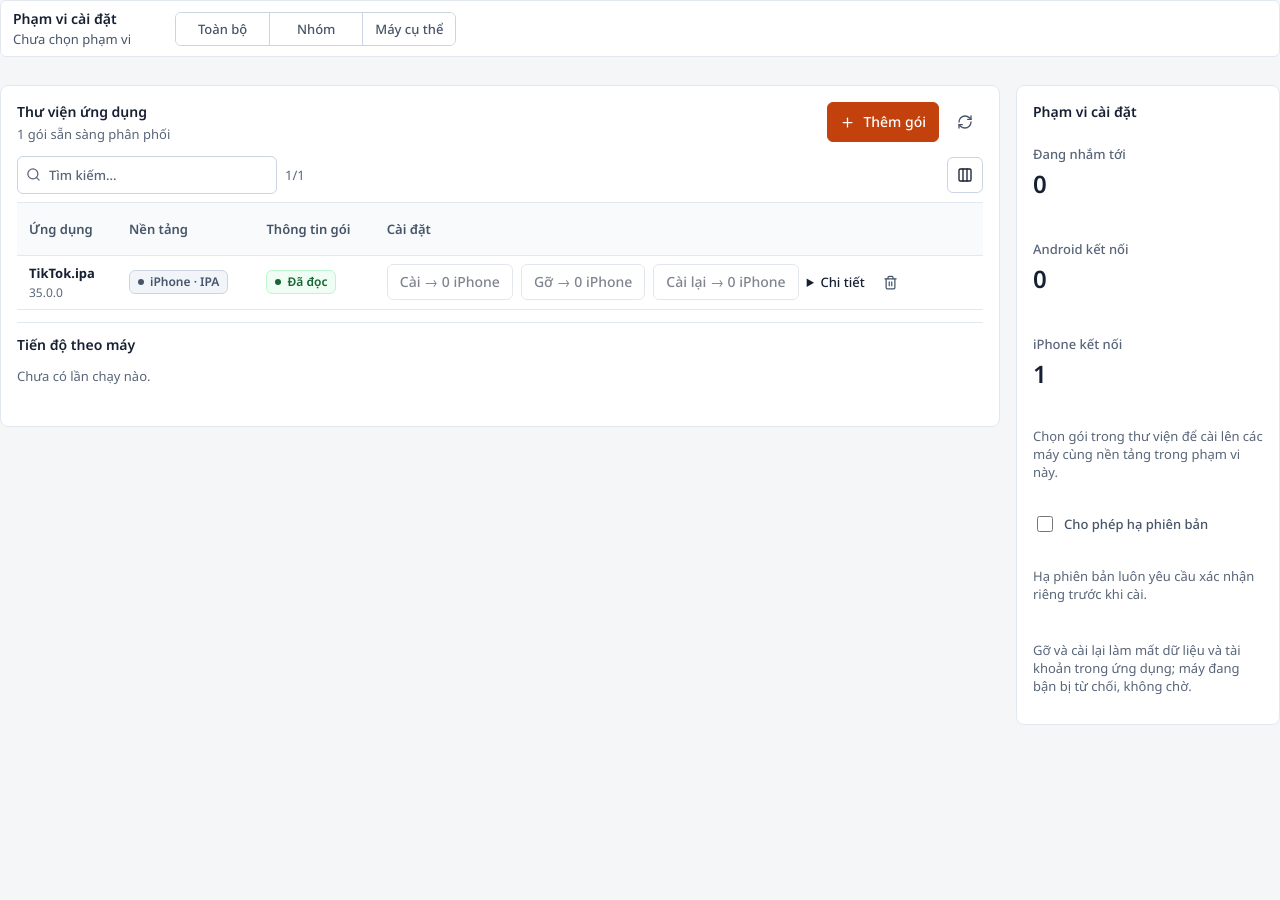
Test case: AppsPage install targets › keeps empty groups and a cleared explicit scope at zero devices
Click the radio button labelled "Nhóm" at (316, 28), box top-left (269, 12), bottom-right (362, 44)
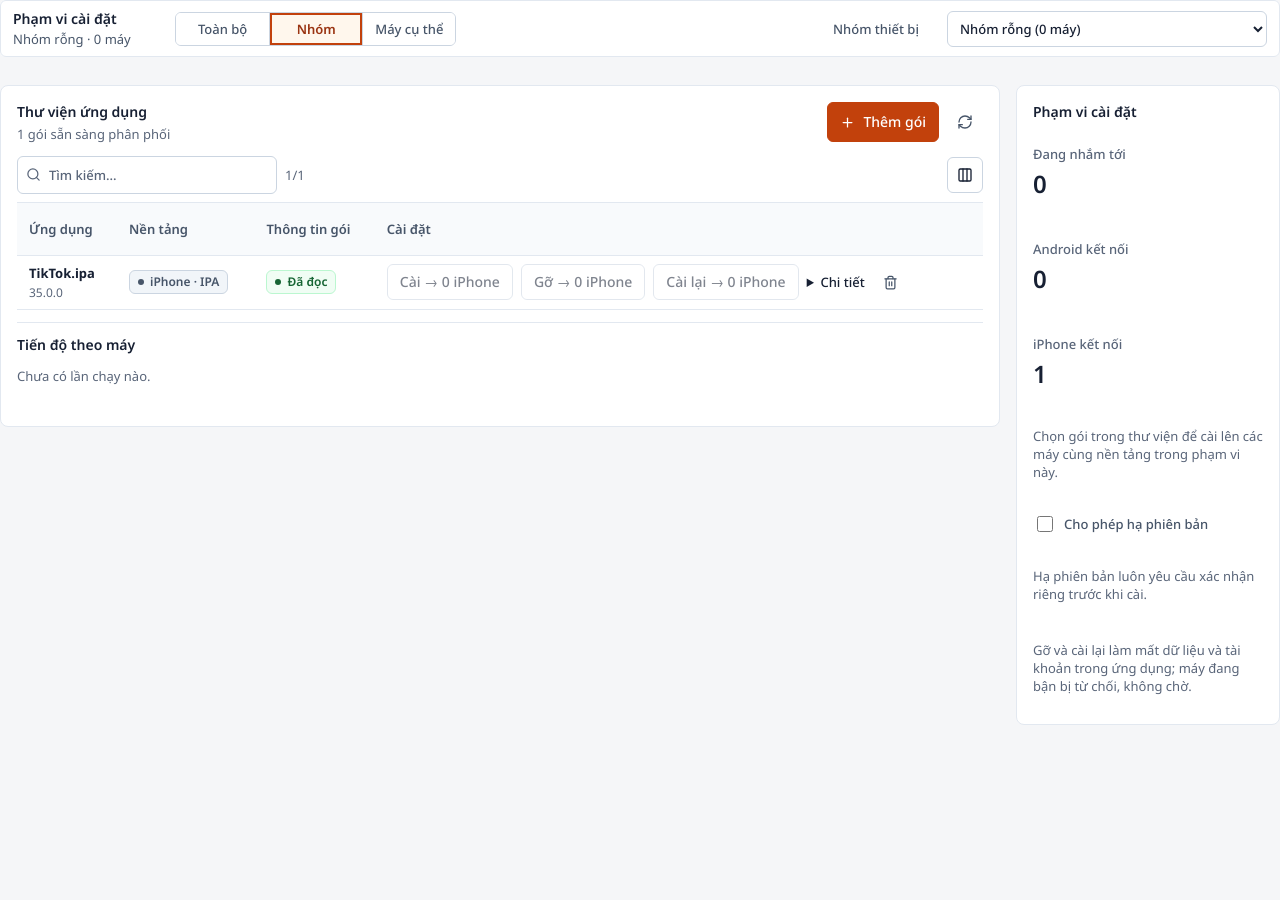
Expected: the button "Cài → 0 iPhone" is disabled, top-left (387, 264), bottom-right (513, 300)
Click the radio button labelled "Máy cụ thể" at (409, 28), box top-left (362, 12), bottom-right (455, 44)
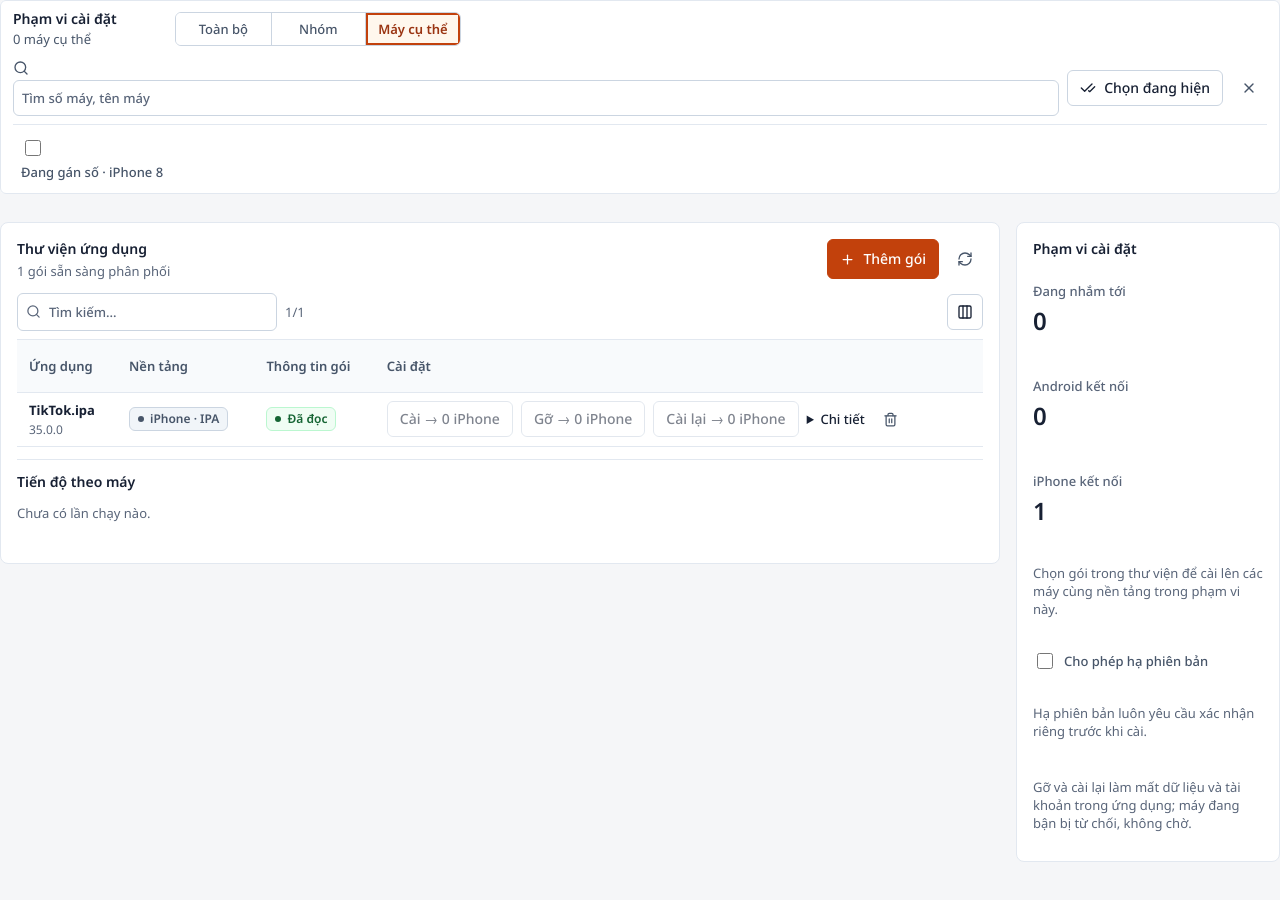
Click the button "Chọn đang hiện" at (1145, 88), box top-left (1067, 70), bottom-right (1223, 106)
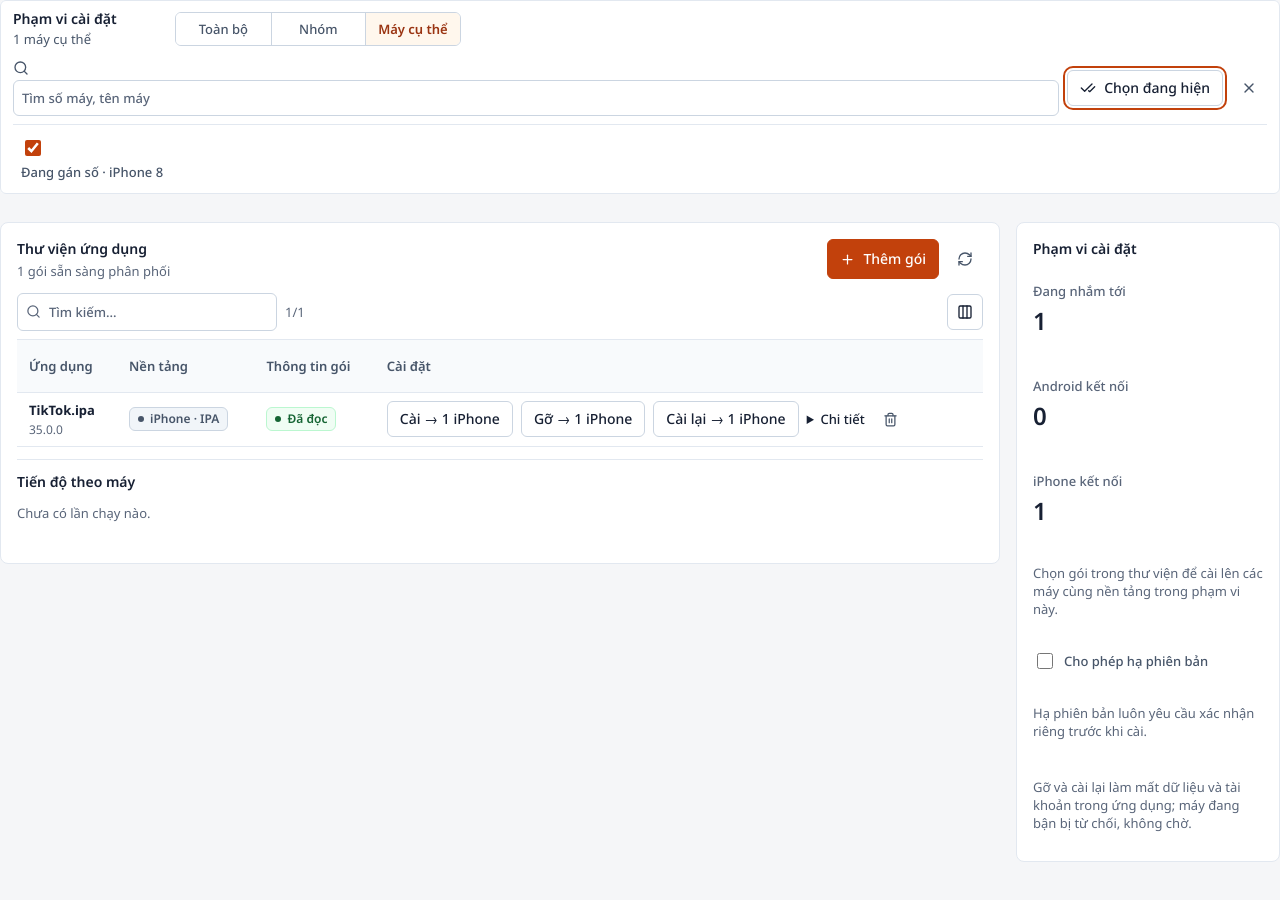
Result: the button "Cài → 1 iPhone" is enabled at top-left (387, 401), bottom-right (513, 437)
Click the button named "Bỏ chọn máy" at (1249, 88), box top-left (1231, 70), bottom-right (1267, 106)
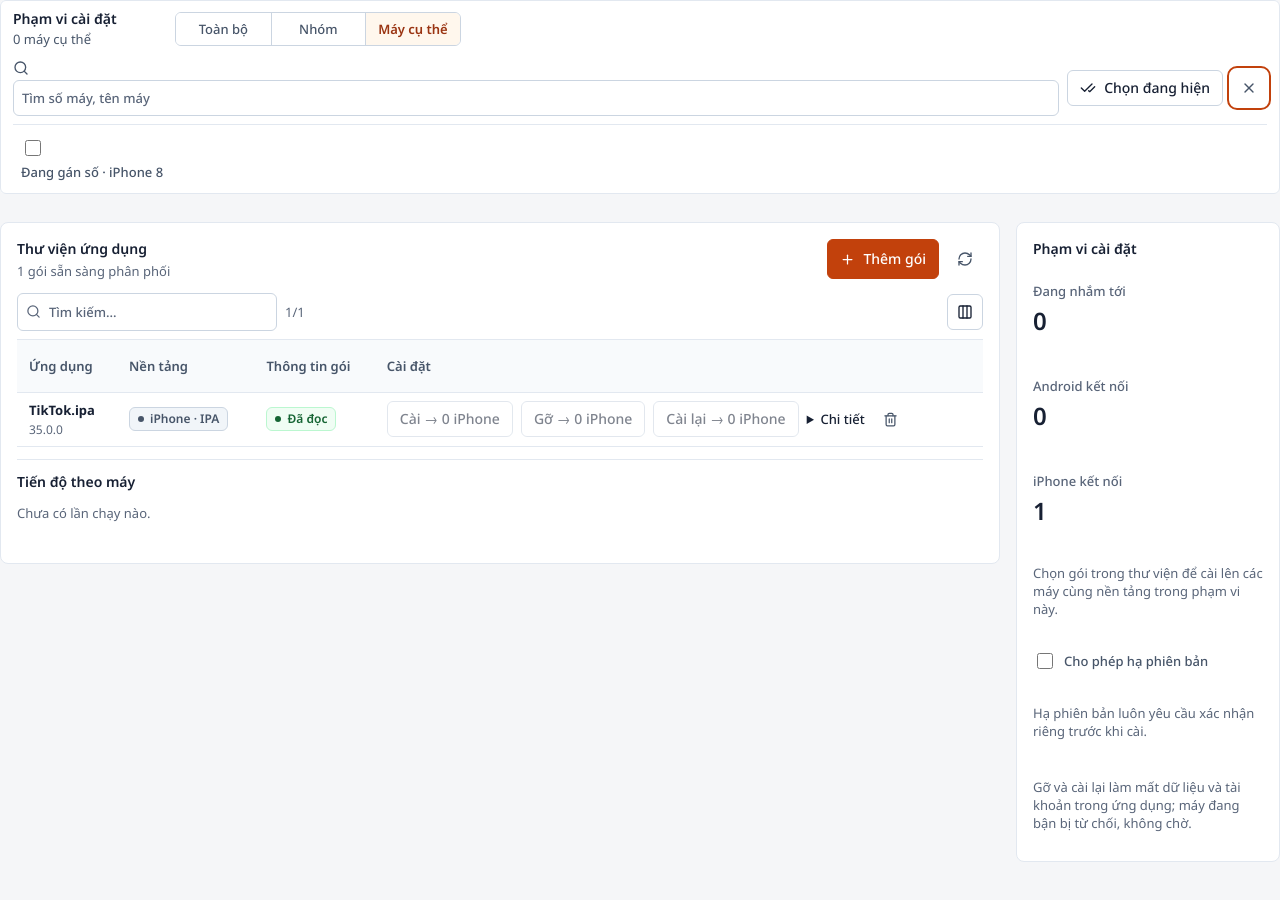
Result: the button "Cài → 0 iPhone" is disabled at top-left (387, 401), bottom-right (513, 437)
